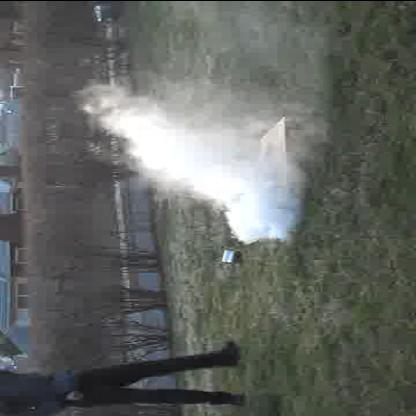Smoke: (107, 95, 295, 238)
